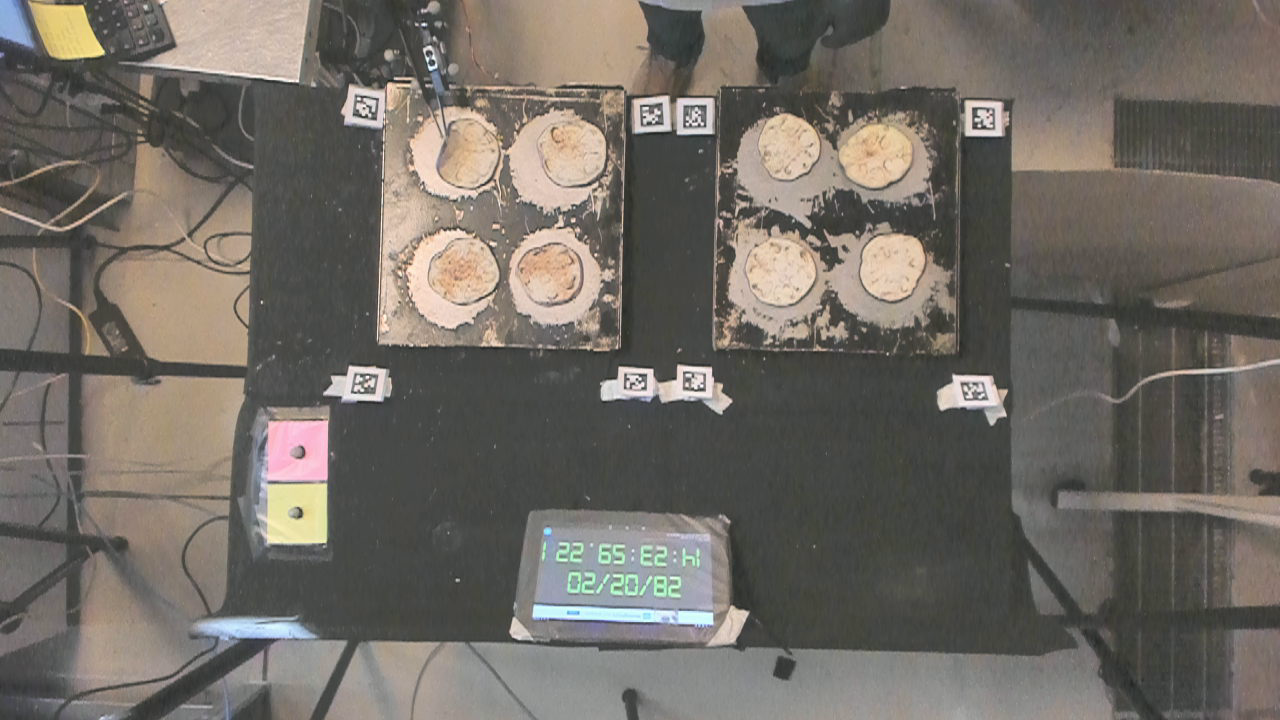eggplant: (742, 240, 820, 308), (531, 119, 608, 185), (859, 232, 924, 303), (430, 241, 505, 302), (840, 128, 913, 189), (437, 120, 503, 186), (513, 245, 586, 304), (762, 112, 820, 186)
marker: (265, 419, 330, 482)
